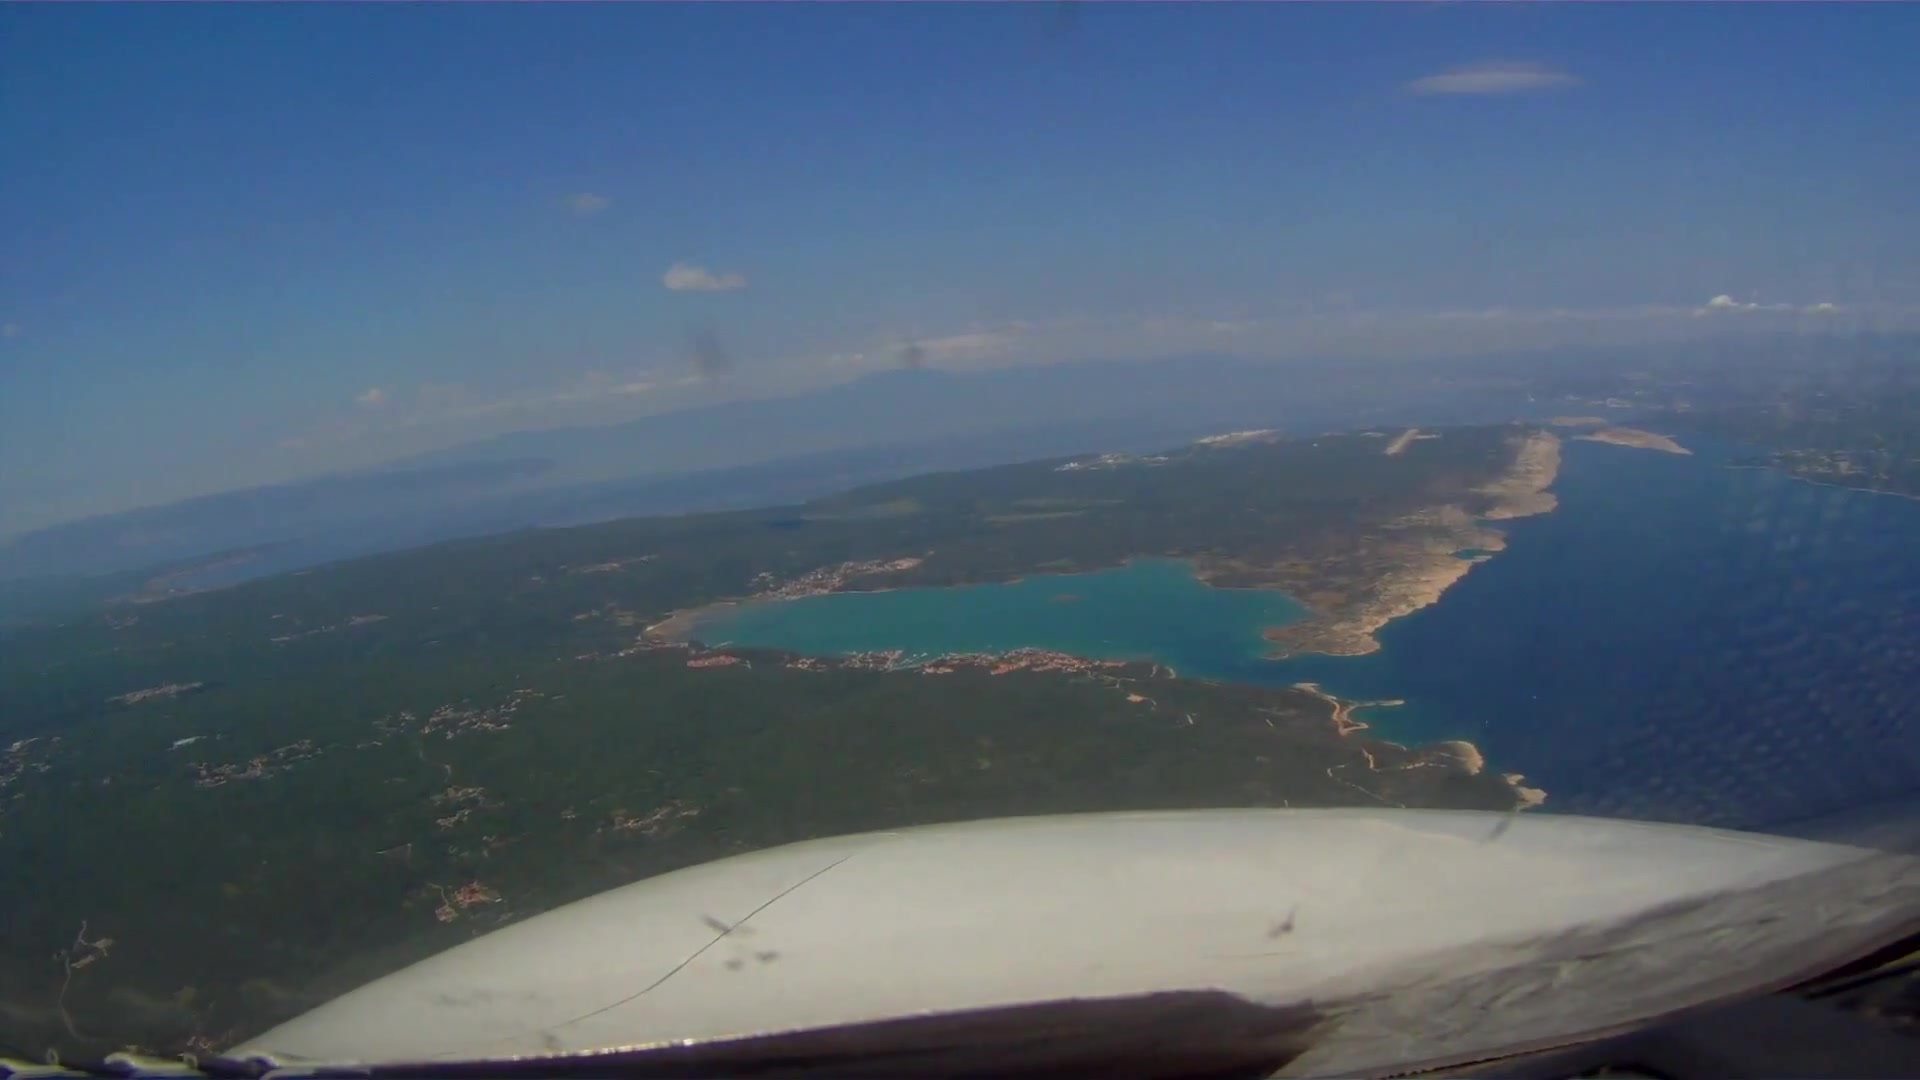runway: (1379, 427, 1420, 458)
